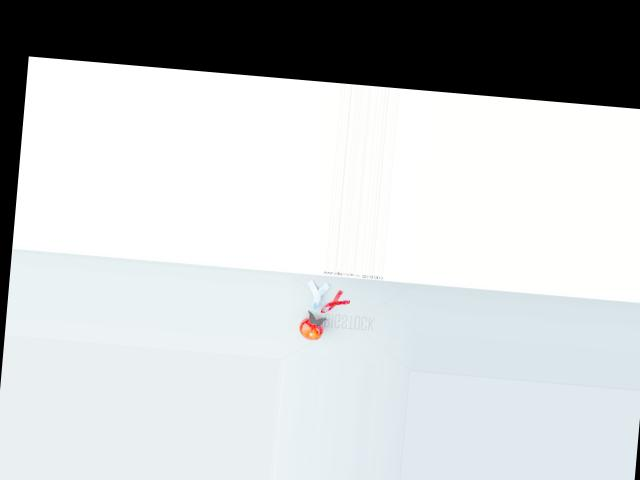tomato: (298, 315, 325, 340)
